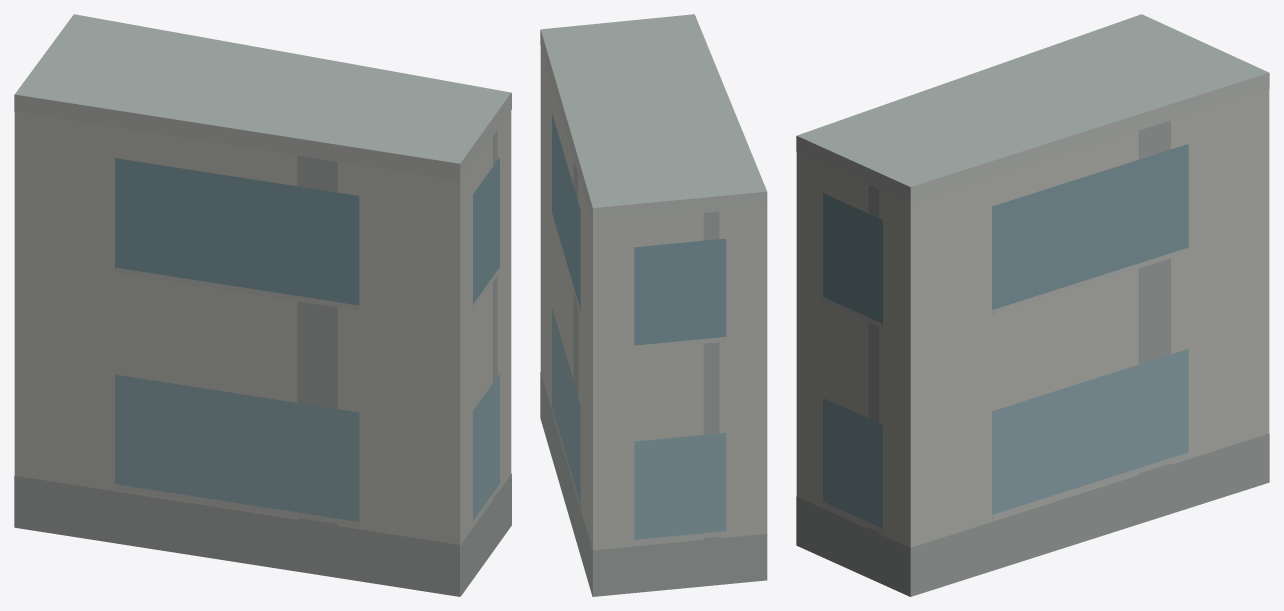
File: survey-upis-32568761.glb
The picture shows the model from 3 angles, left to right: view 1: azimuth 30°, elevation 25°; view 2: azimuth 150°, elevation 25°; view 3: azimuth 270°, elevation 25°; orthographic projection. The views are drawn at different scales.
Parts seen in each view (by area): view 1: survey-upis-32568761.tmp; view 2: survey-upis-32568761.tmp; view 3: survey-upis-32568761.tmp.
Boxes of the visible parts, x1,y1,x2,y2 form: survey-upis-32568761.tmp: (14,14,511,596); survey-upis-32568761.tmp: (540,14,767,596); survey-upis-32568761.tmp: (796,14,1269,596).
Bounding box in the file's own units: 5.53 × 6.1 × 6.39.
